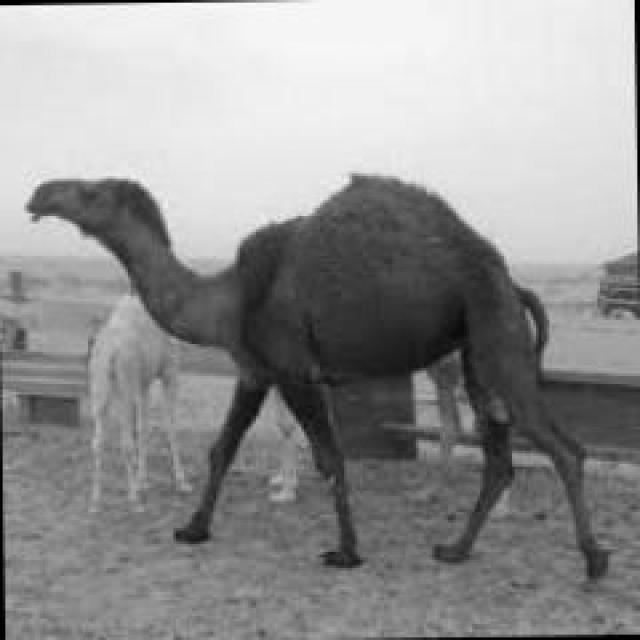Camel: (24, 171, 611, 581)
